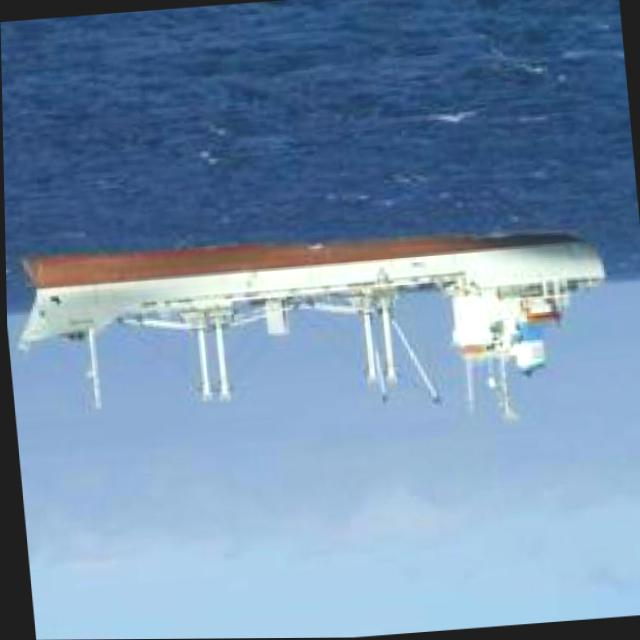ship2: (9, 226, 606, 423)
